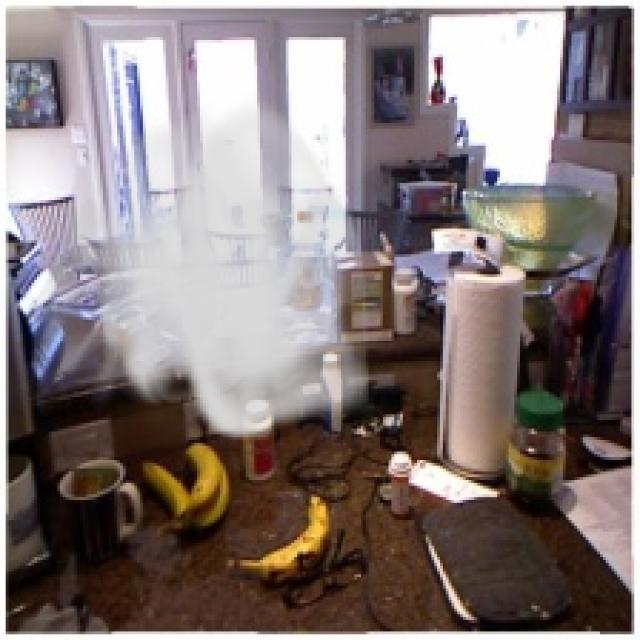smoke: (29, 91, 380, 443)
